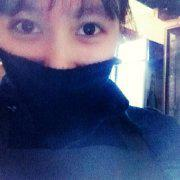WRONG: (5, 4, 119, 122)
